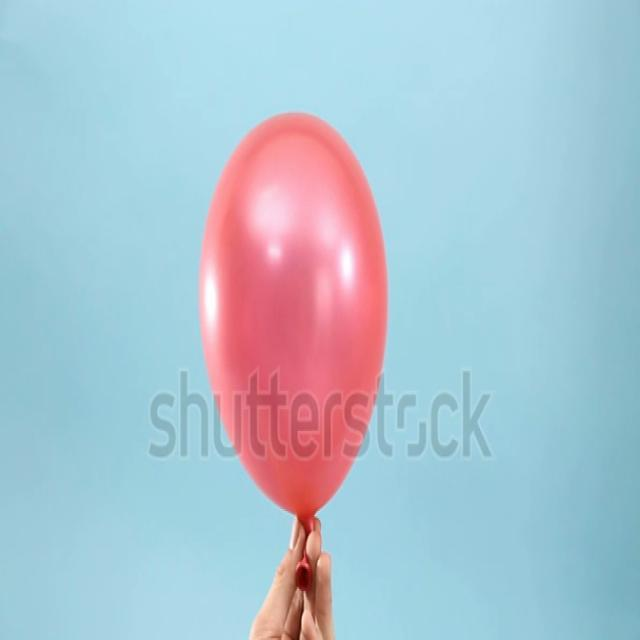red: (196, 109, 389, 580)
